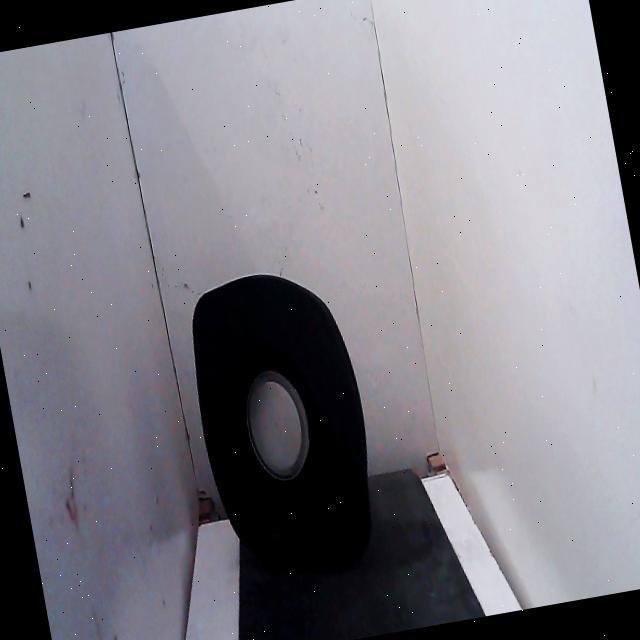plastico: (170, 250, 396, 596)
